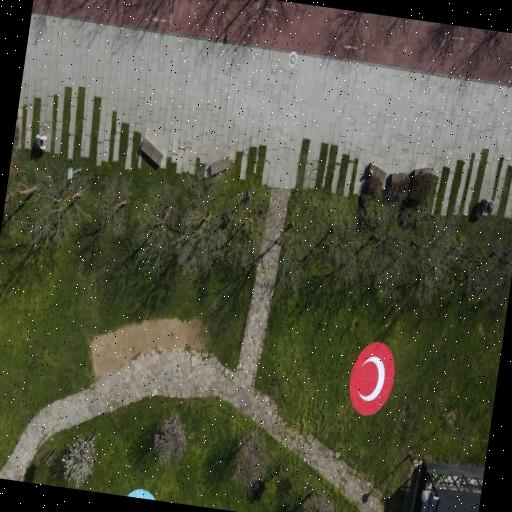UAI: (349, 343, 394, 416)
UAP: (128, 490, 155, 500)
